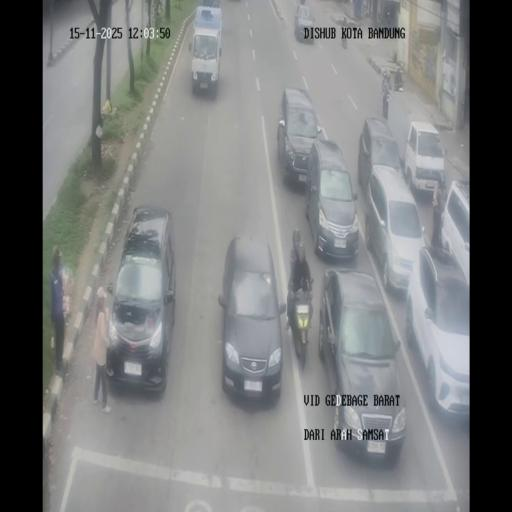3: (190, 4, 224, 96)
car: (320, 269, 403, 459), (105, 205, 176, 392), (405, 243, 469, 424), (218, 237, 285, 403), (366, 165, 425, 294), (306, 137, 359, 261), (278, 87, 322, 186), (405, 120, 444, 197), (294, 4, 316, 42)
truck: (289, 281, 314, 368), (393, 66, 404, 92), (382, 92, 390, 117), (341, 24, 348, 49)
